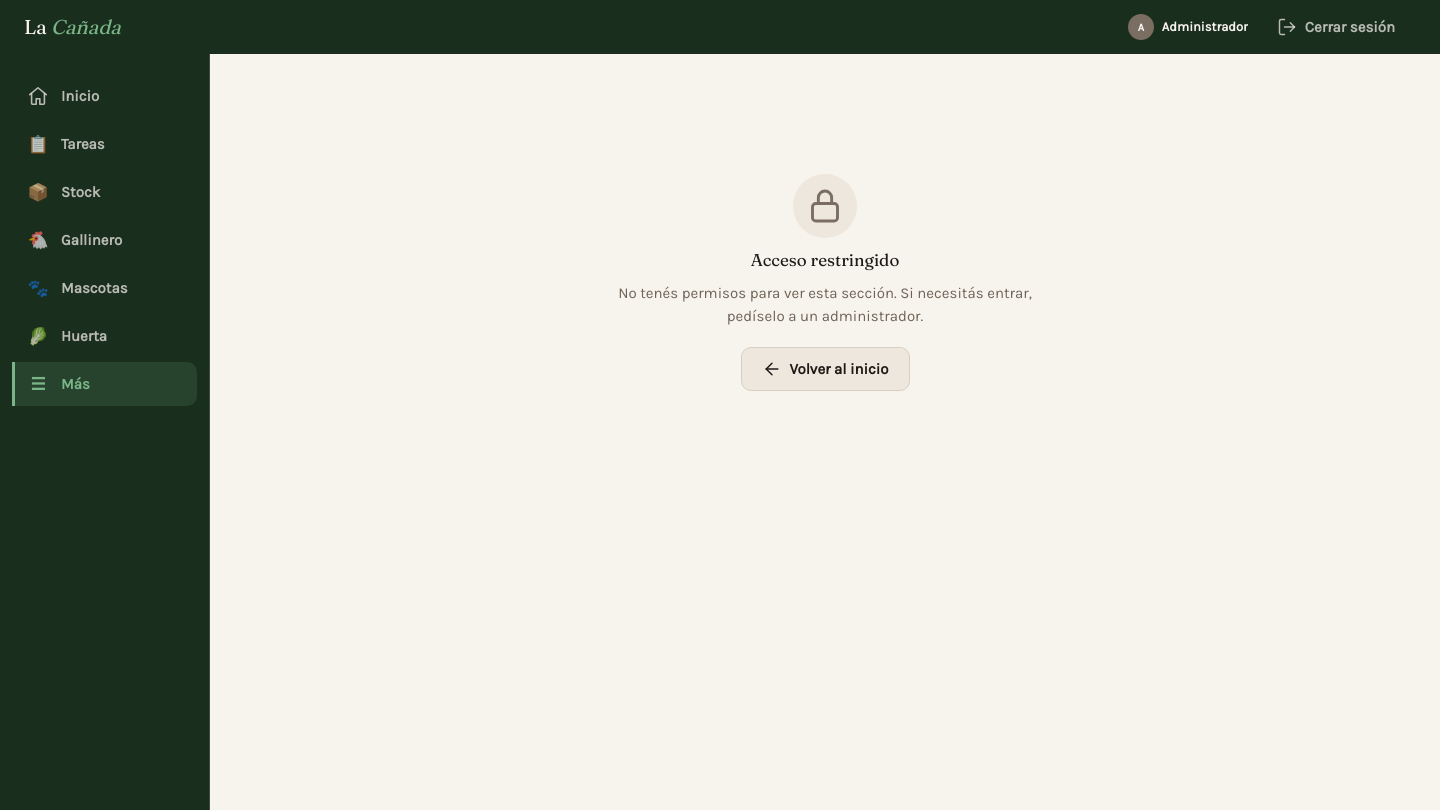
AppRoutes (con app shell real) › EMPLOYEE en /admin/users: acceso denegado dentro del shell, con salida segura al Inicio
Expected: the message shows "No tenés permisos", [618,284,1032,325]
Click the link "Volver al inicio" at x=825, y=369, box [740,347,910,391]
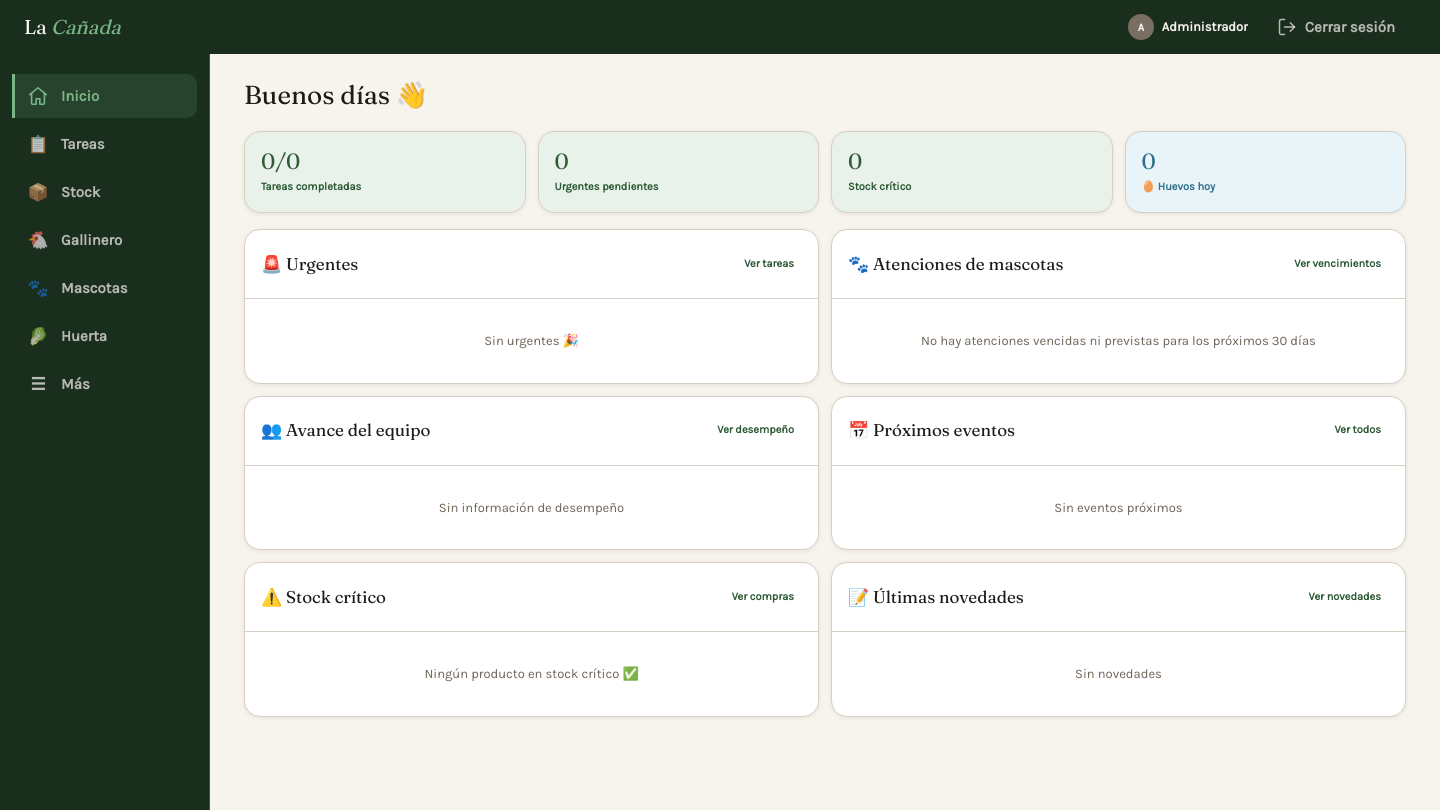
Result: the heading "Buenos días 👋" is shown at [244,80,428,111]
